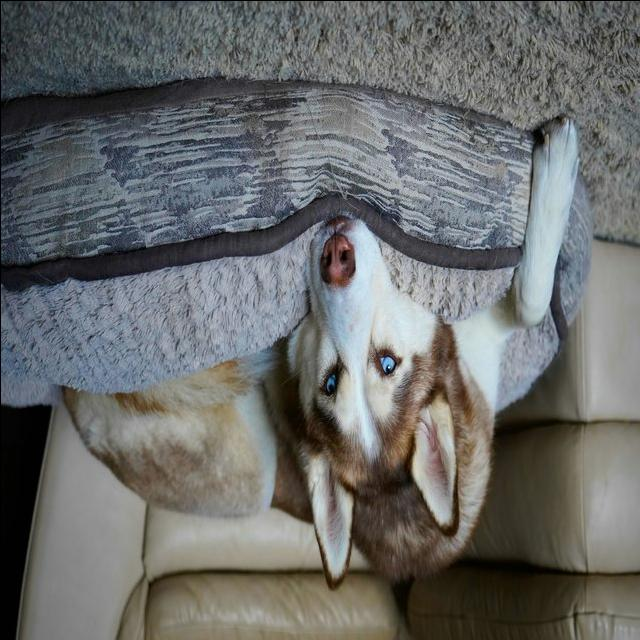husky: (59, 116, 586, 592)
